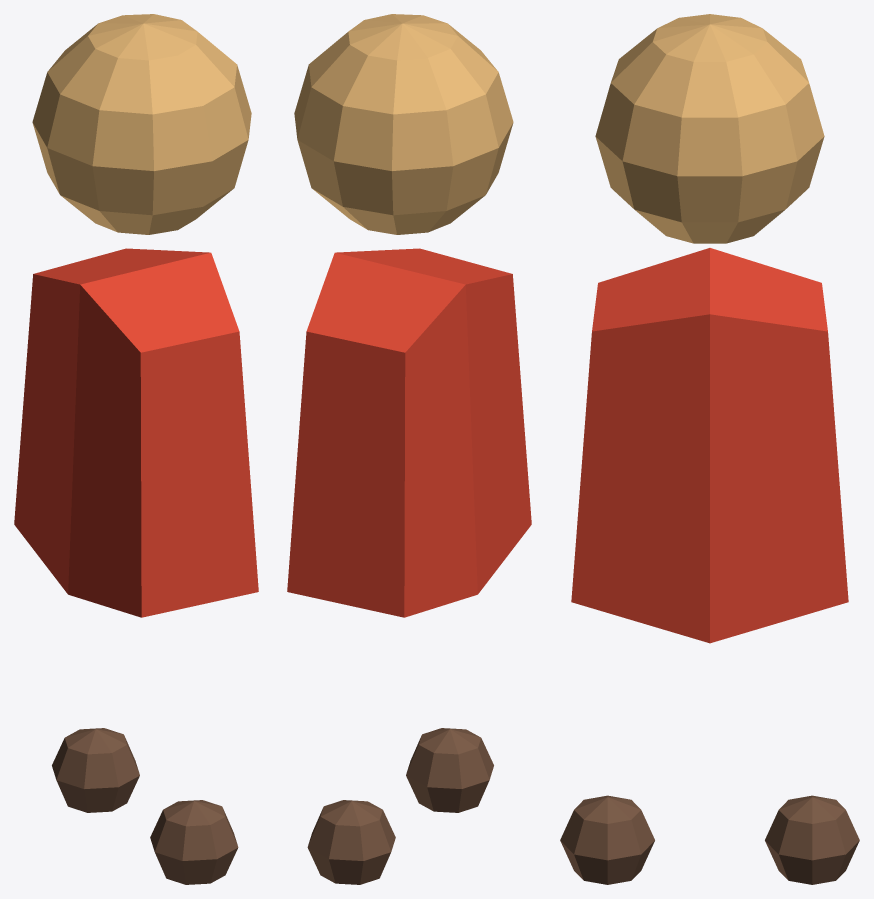
File: Mario.fbx
3 views of the same model, side by side, from view 1: azimuth 30°, elevation 25°; view 2: azimuth 150°, elevation 25°; view 3: azimuth 270°, elevation 25° (orthographic). The views are drawn at different scales.
Visible parts, largest first — view 1: Mario; view 2: Mario; view 3: Mario.
Boxes of the visible parts, <box> form: Mario: <box>14,14,258,884</box>; Mario: <box>287,14,531,884</box>; Mario: <box>560,14,859,884</box>.
Bounding box in the file's own units: 46.73 × 195 × 61.77.
